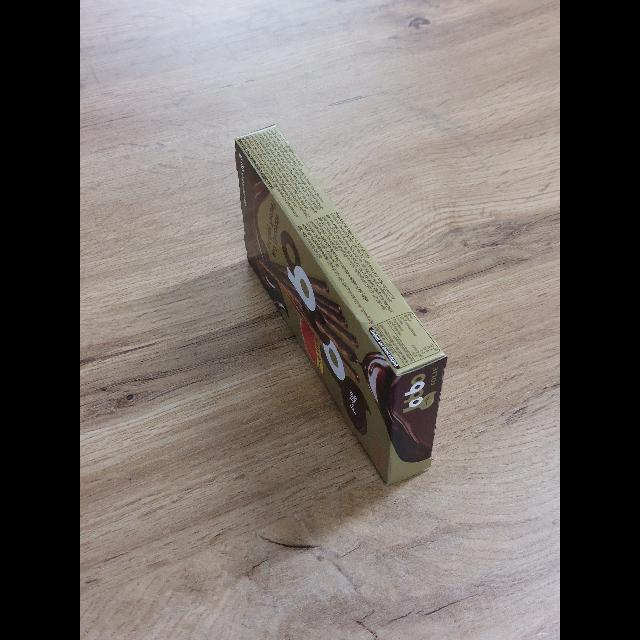banh_toppo_socola: (234, 127, 447, 488)
